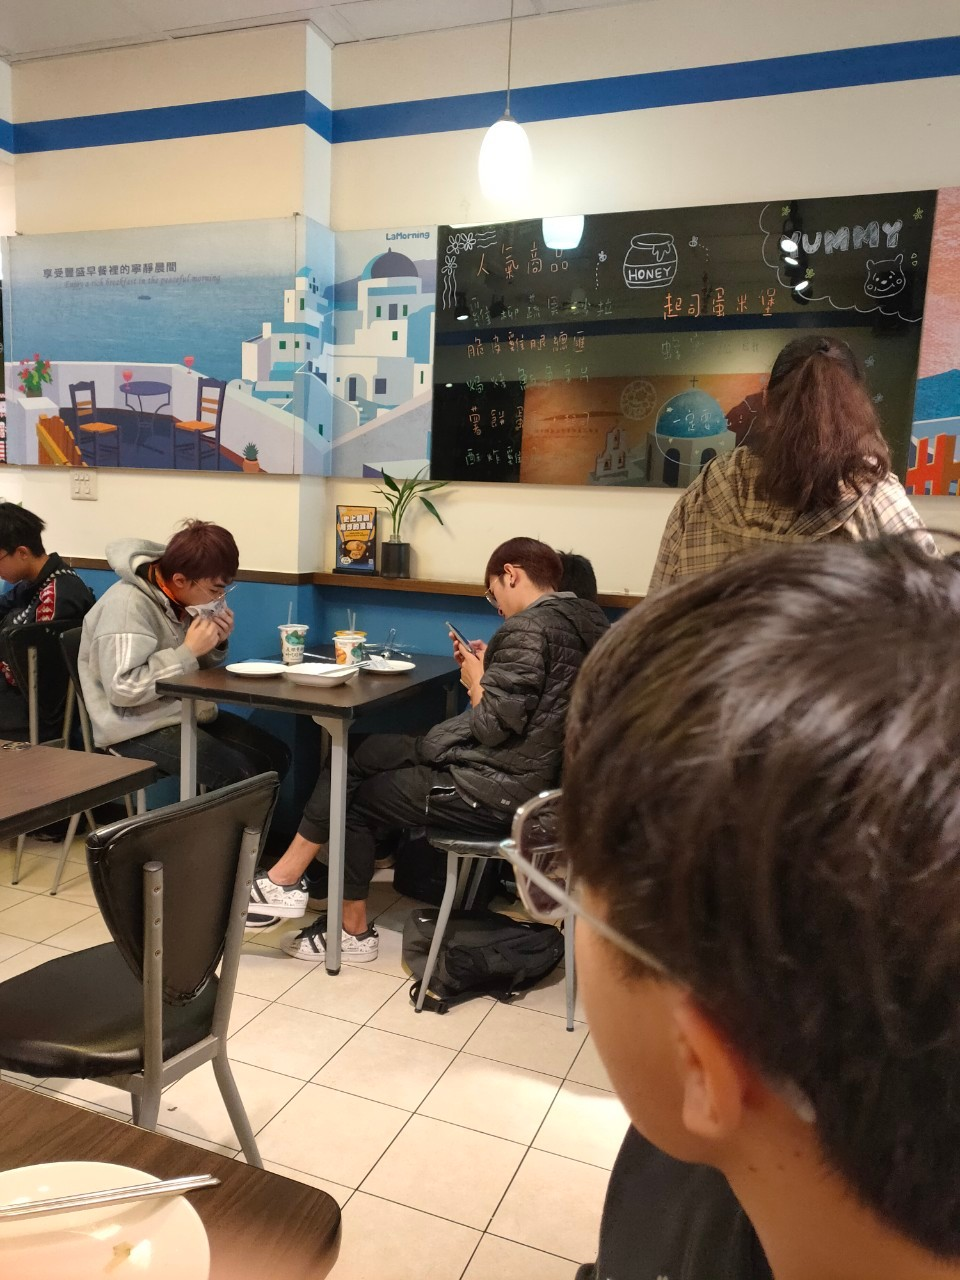people: (542, 531, 960, 1280), (642, 325, 948, 576), (95, 523, 291, 855), (448, 531, 627, 861), (1, 494, 89, 757)
